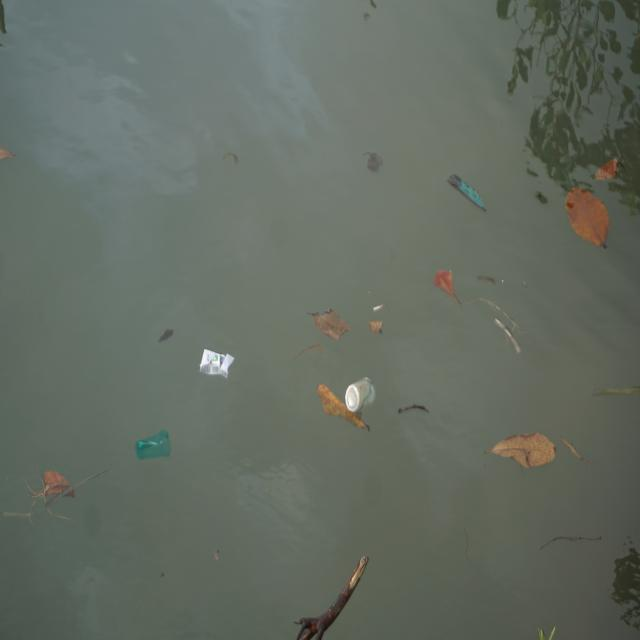Bungkus Minuman: (134, 420, 176, 464), (347, 365, 379, 420)
